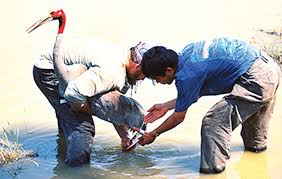seu_dau_do: (26, 7, 141, 140)
